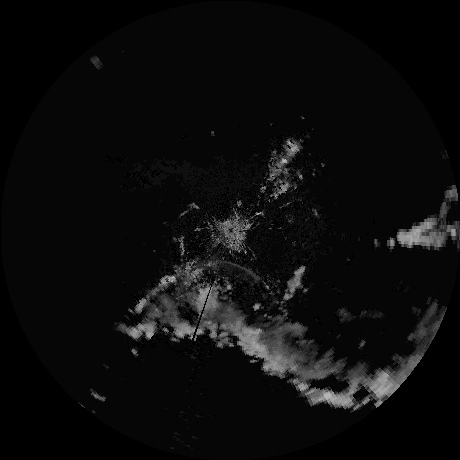frontgust: (208, 260, 268, 284)
